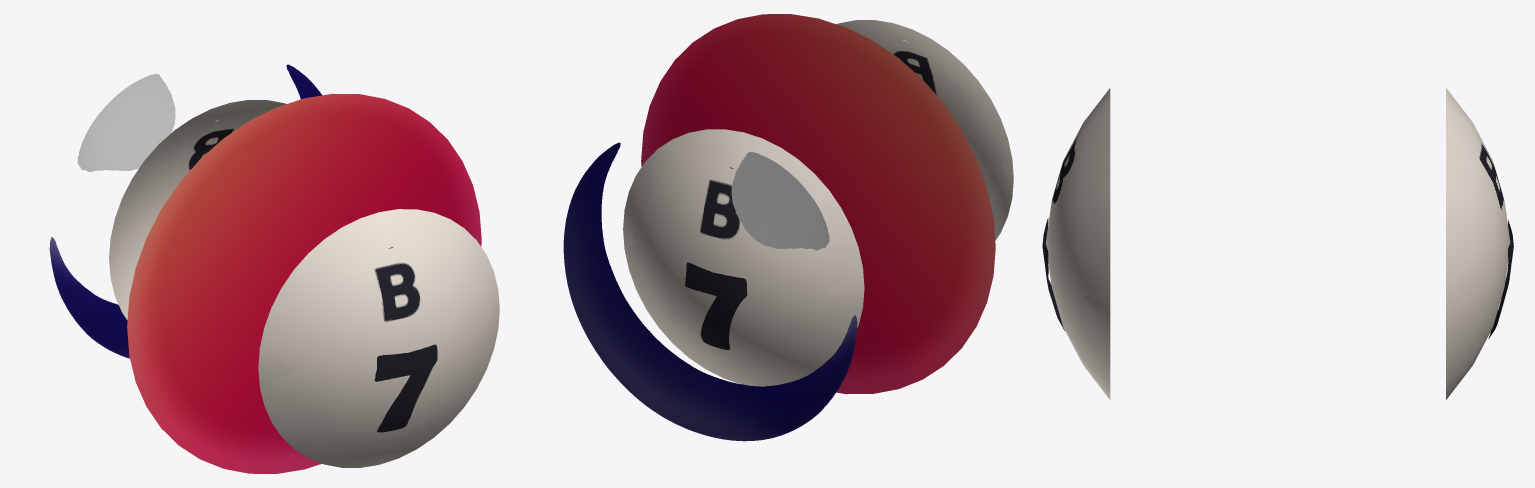
Rendered from balls.FBX.
3 renders of one model, left to right at view 1: azimuth 30°, elevation 25°; view 2: azimuth 150°, elevation 25°; view 3: azimuth 270°, elevation 25°, orthographic. The views are drawn at different scales.
Parts seen in each view (by area): view 1: ball, white, shade, numbers; view 2: ball, white, shade, numbers; view 3: white, numbers.
Part boxes in pixels (<box>): ball: <box>127,93,481,473</box>; white: <box>109,100,499,467</box>; shade: <box>49,64,321,358</box>; numbers: <box>374,344,437,432</box>; ball: <box>641,14,995,394</box>; white: <box>623,20,1013,386</box>; shade: <box>563,142,857,441</box>; numbers: <box>685,262,747,349</box>; white: <box>1045,88,1510,399</box>; numbers: <box>1042,218,1513,338</box>.
Size of the model in its own units: 523 by 523 by 528.
